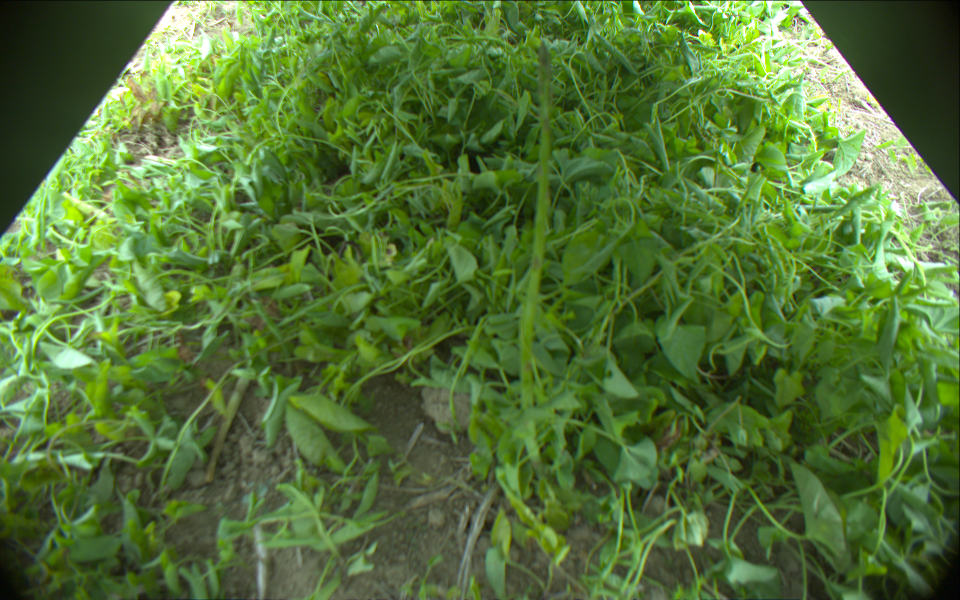aspa: (520, 41, 550, 463)
